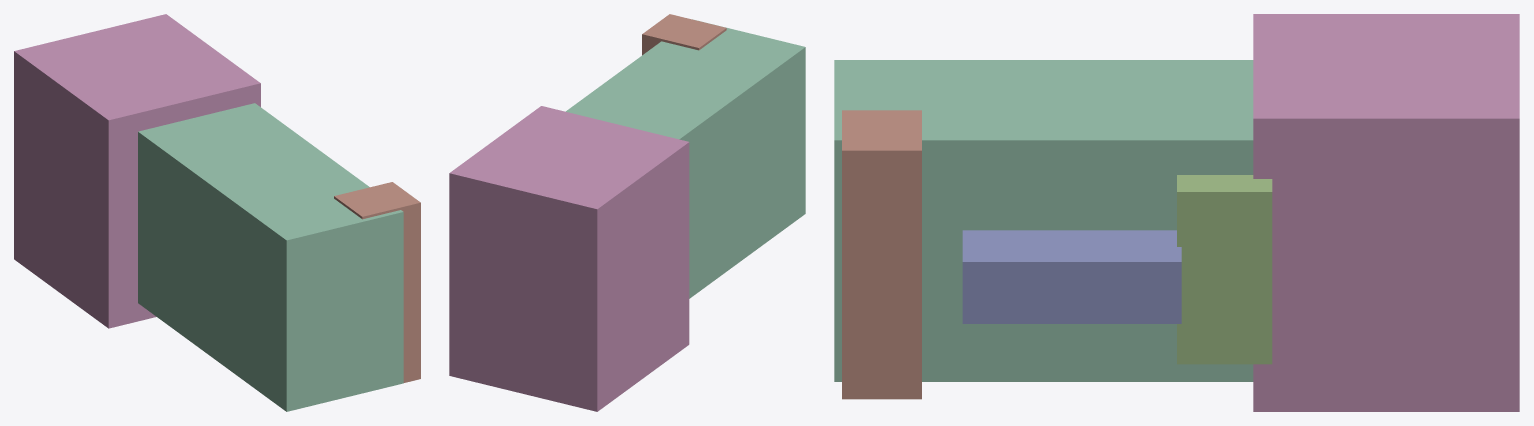
3 renders of one model, left to right at view 1: azimuth 30°, elevation 25°; view 2: azimuth 150°, elevation 25°; view 3: azimuth 270°, elevation 25°, orthographic. The views are drawn at different scales.
Visible parts, largest first — view 1: part0, part4, part1; view 2: part4, part0, part1; view 3: part4, part0, part1, part2, part3.
Part boxes in pixels (left/top/right/bottom): part0: left=138, top=103, right=403, bottom=411; part4: left=14, top=14, right=260, bottom=328; part1: left=334, top=182, right=420, bottom=382; part4: left=449, top=106, right=689, bottom=411; part0: left=566, top=19, right=805, bottom=298; part1: left=642, top=14, right=726, bottom=55; part4: left=1253, top=14, right=1519, bottom=411; part0: left=834, top=60, right=1253, bottom=381; part1: left=842, top=110, right=921, bottom=399; part2: left=962, top=230, right=1181, bottom=323; part3: left=1177, top=175, right=1272, bottom=364.
Bounding box in the file's own units: 1.64 × 1.7 × 3.6.
